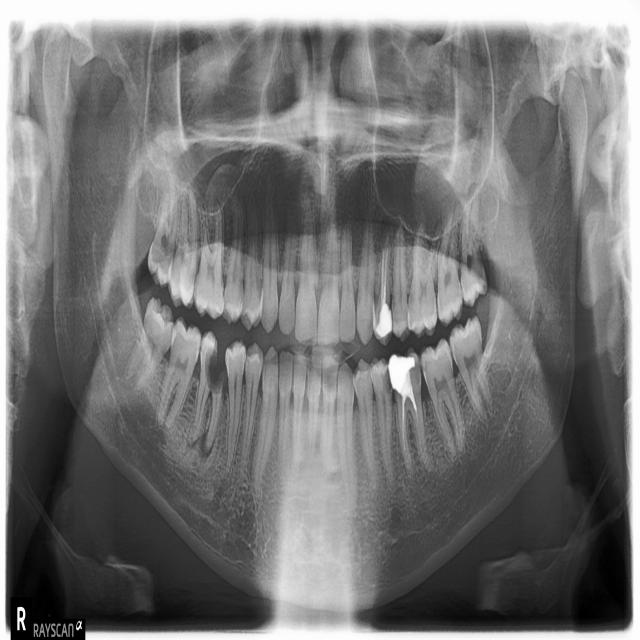mandibula: (43, 24, 587, 607)
